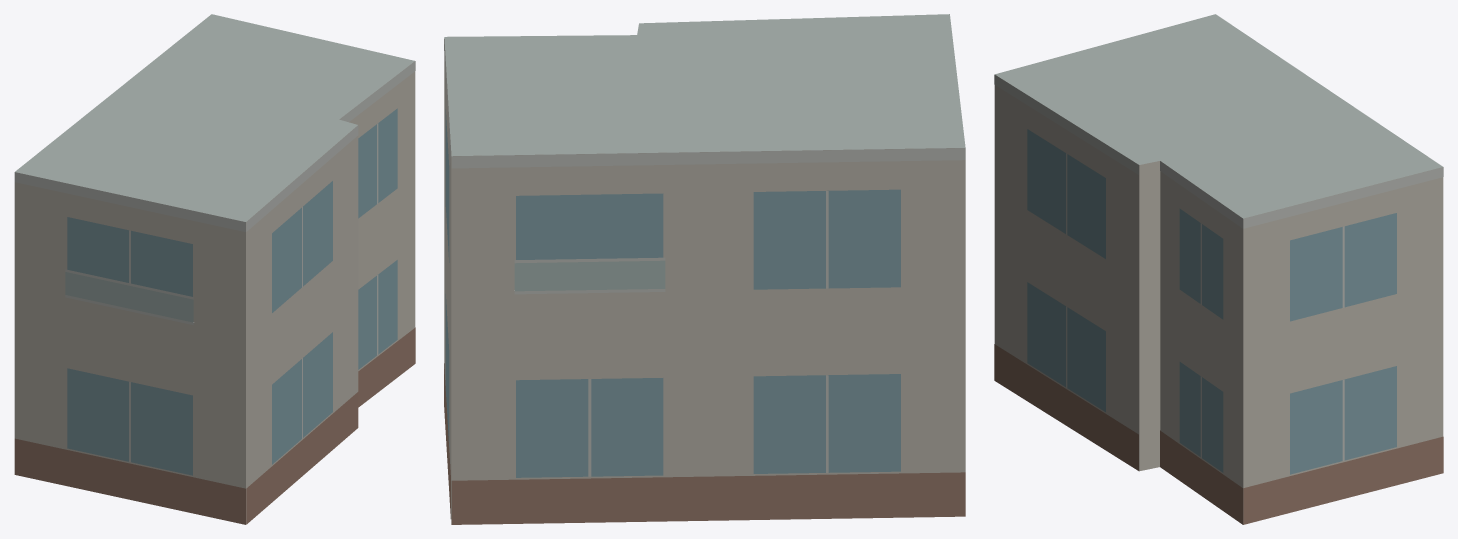
Rendered from survey-upis-32949711.glb.
The picture shows the model from 3 angles, left to right: view 1: azimuth 30°, elevation 25°; view 2: azimuth 150°, elevation 25°; view 3: azimuth 270°, elevation 25°; orthographic projection. The views are drawn at different scales.
Visible parts, largest first — view 1: survey-upis-32949711.tmp; view 2: survey-upis-32949711.tmp; view 3: survey-upis-32949711.tmp.
Part boxes in pixels (x1,y1,x2,y2): survey-upis-32949711.tmp: (14, 14, 415, 524); survey-upis-32949711.tmp: (444, 14, 965, 524); survey-upis-32949711.tmp: (994, 14, 1443, 524).
Bounding box in the file's own units: 10.47 × 7.3 × 9.71.
